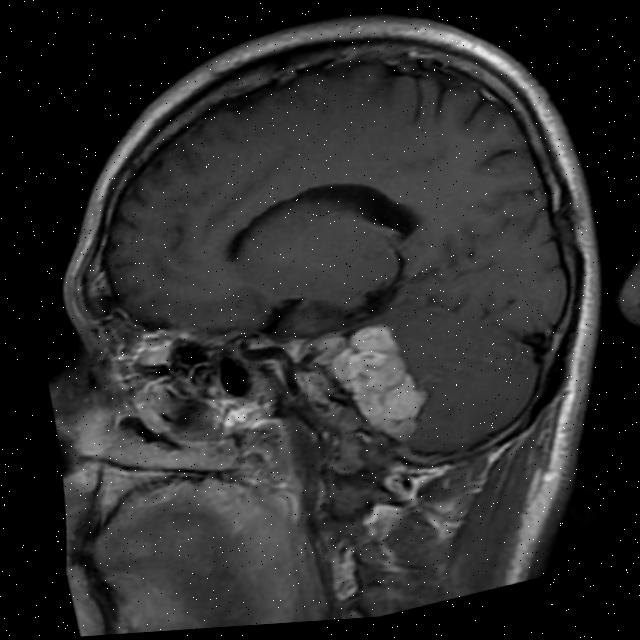Meningioma: (324, 312, 438, 455)
